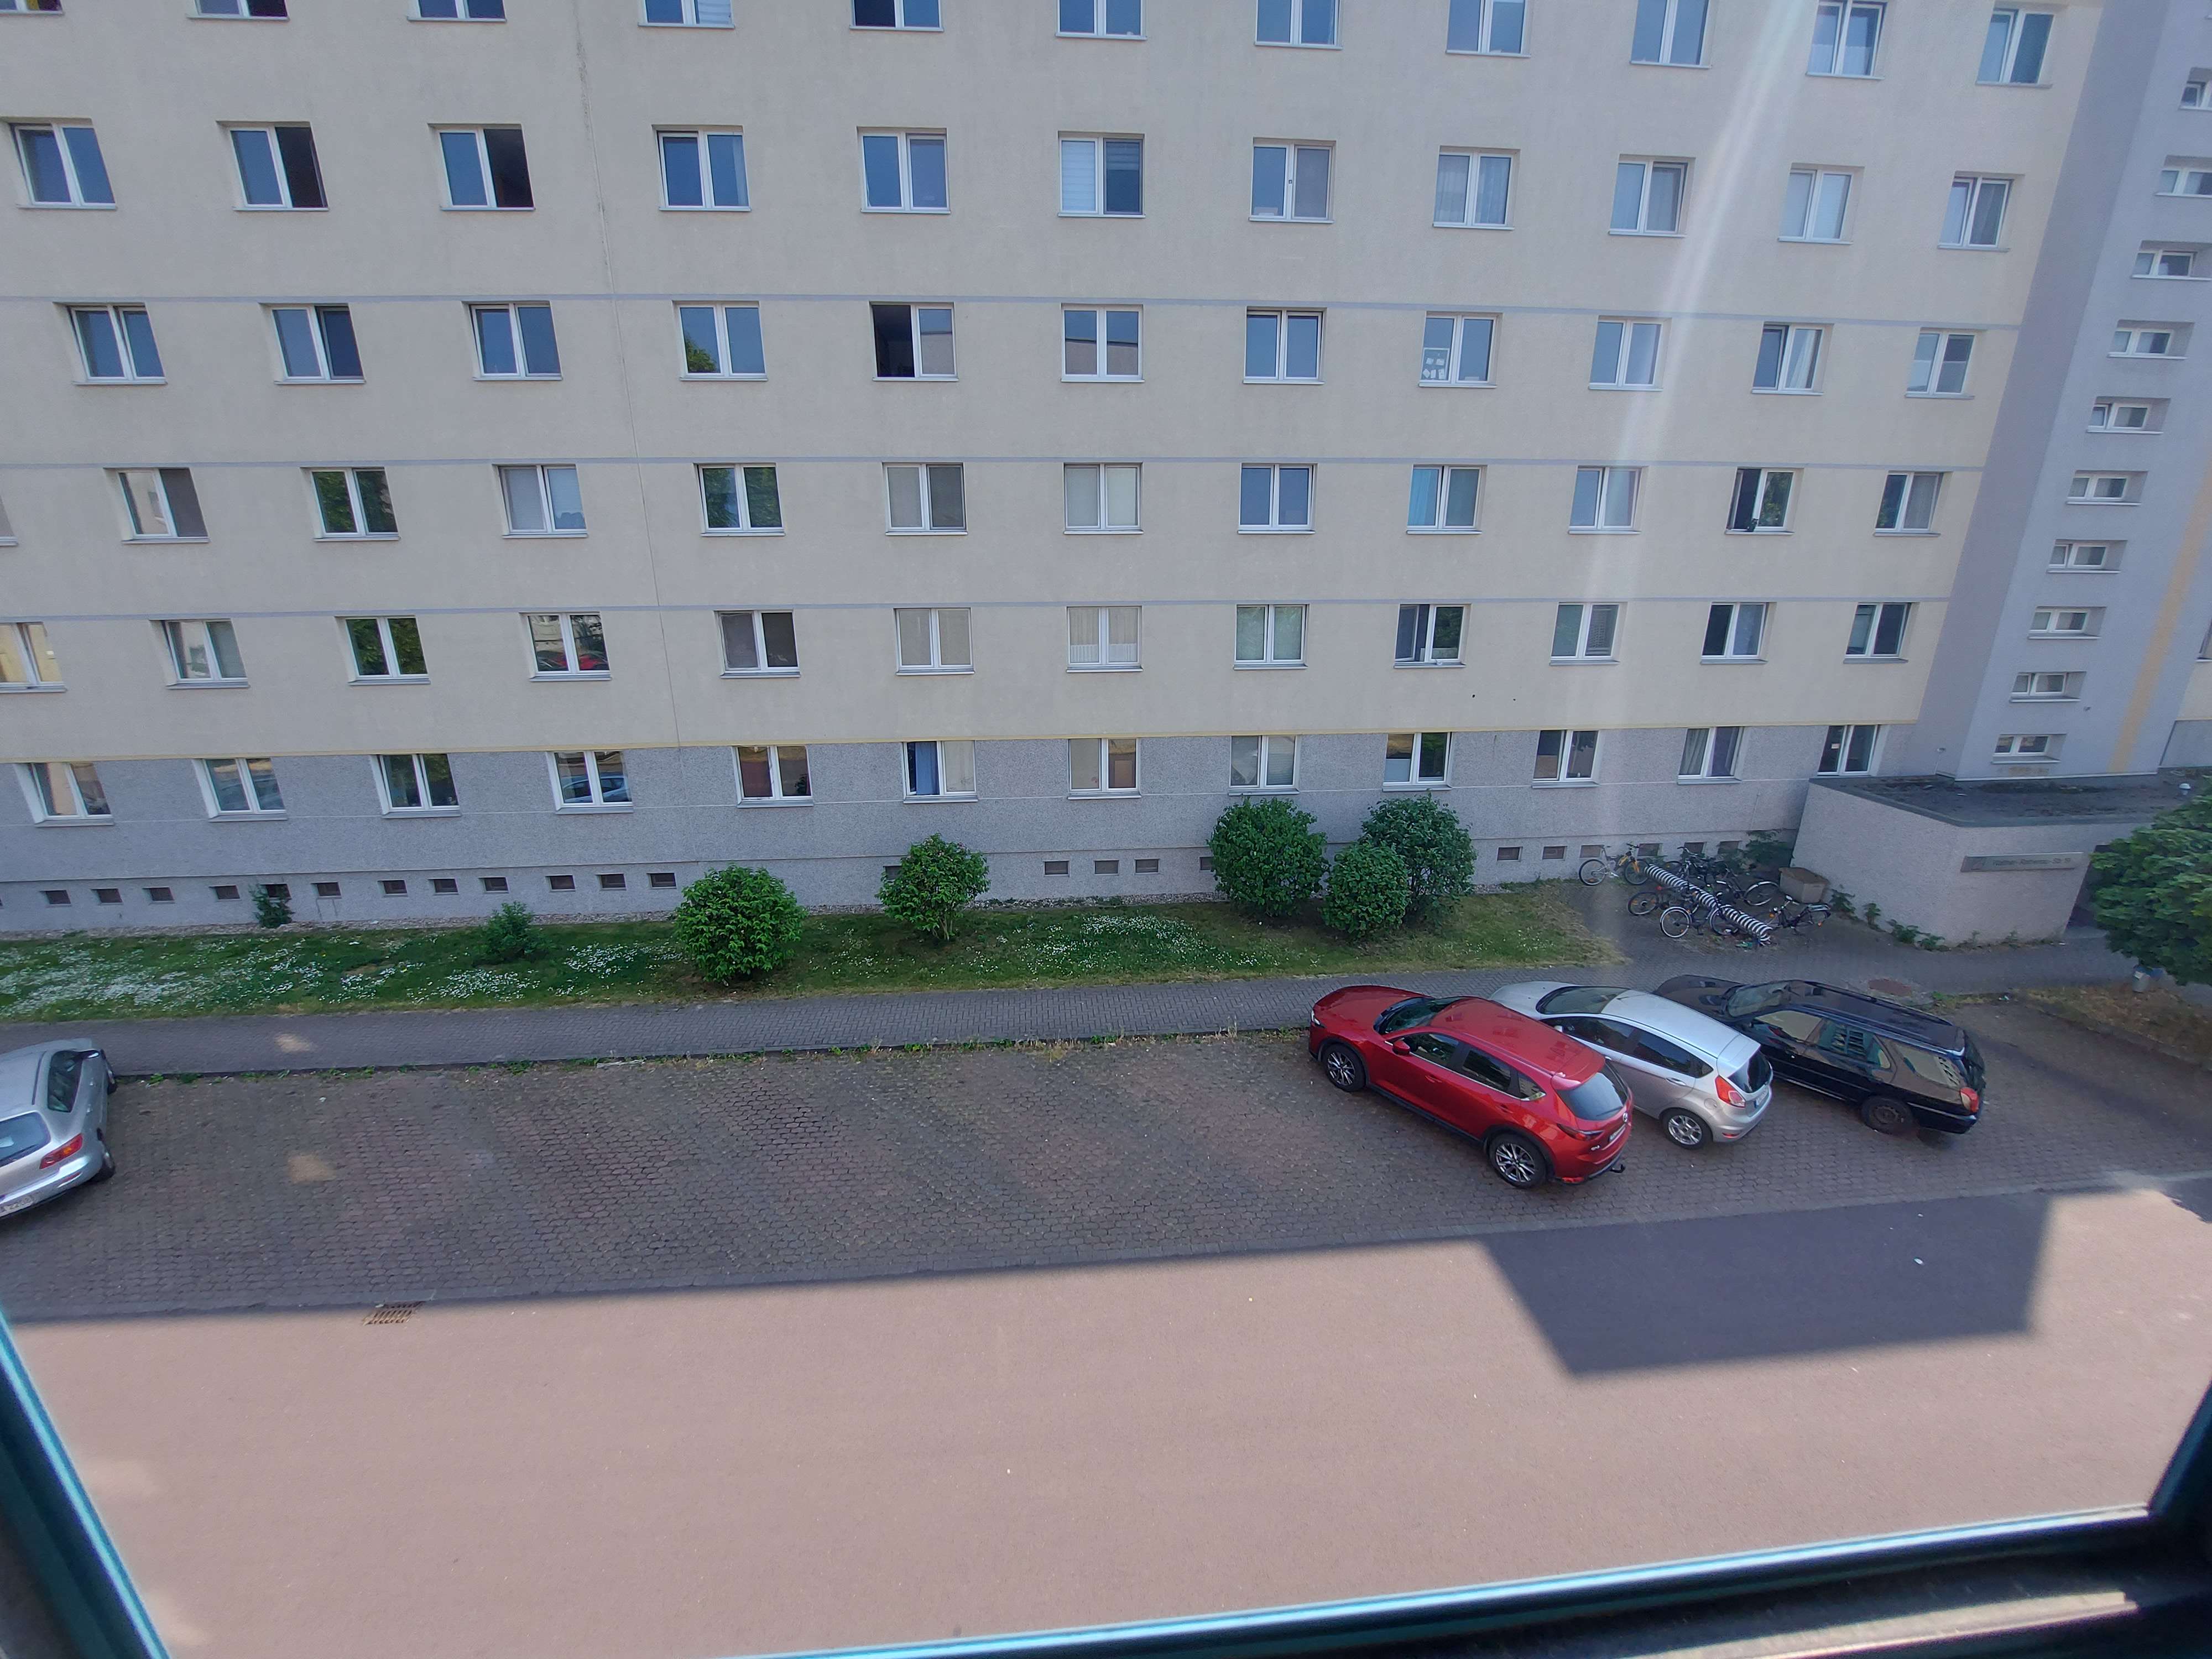spot: (1613, 1014, 1766, 1166), (817, 1073, 970, 1225), (590, 1077, 744, 1229), (345, 1075, 498, 1227), (1784, 1009, 1935, 1161), (1439, 1042, 1590, 1194), (1212, 1056, 1364, 1208), (1031, 1068, 1183, 1220), (148, 1077, 300, 1229)
